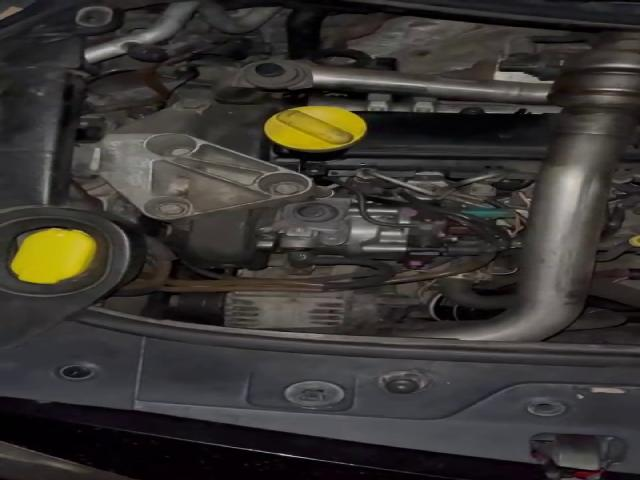alternator: (220, 284, 422, 330)
high_pressure_pump: (275, 206, 458, 269)
